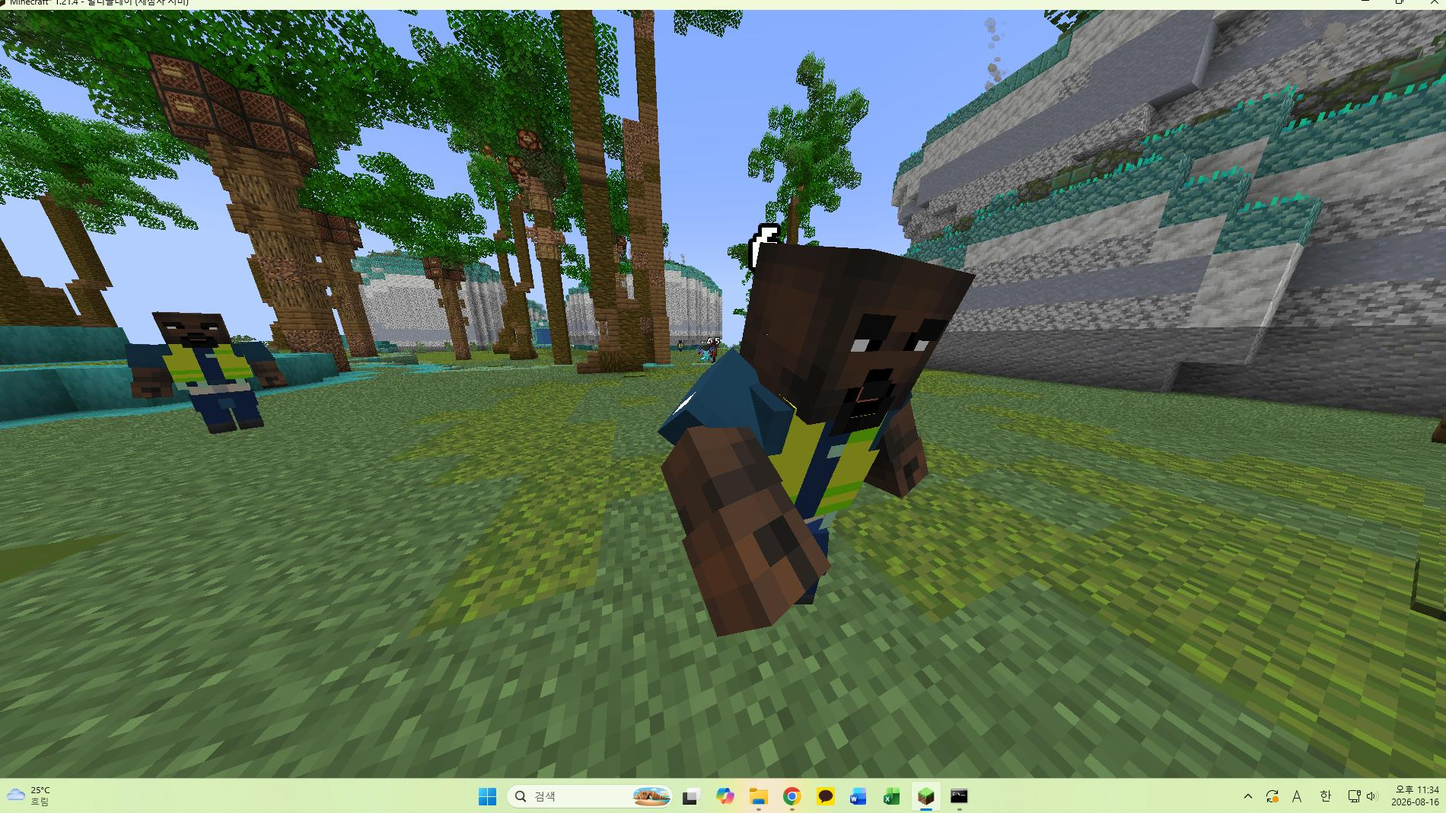Guardian: (658, 224, 973, 636), (127, 312, 287, 433)
